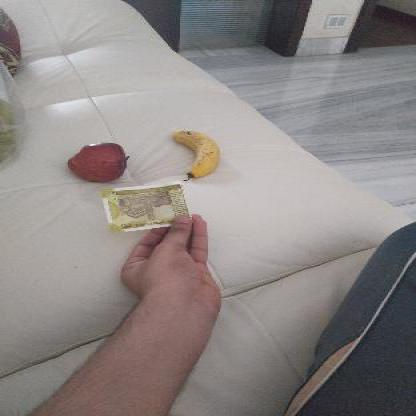New20Back: (102, 184, 191, 231)
